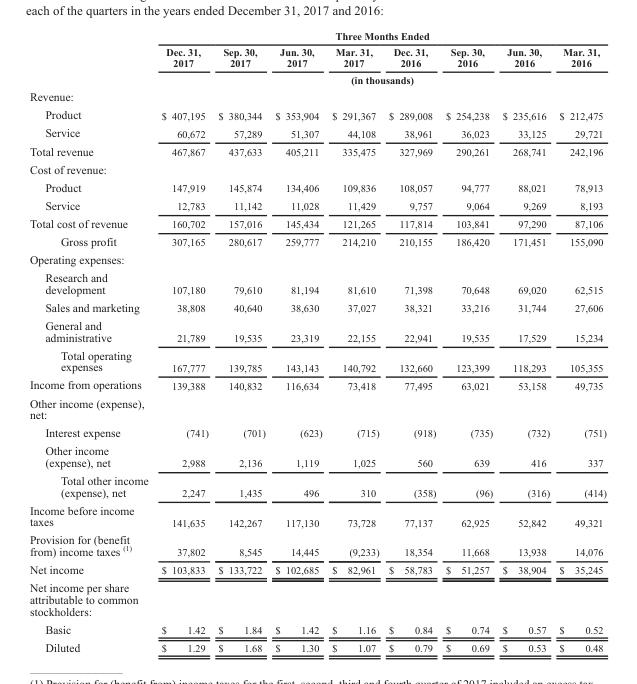table: (28, 29, 605, 653)
table column: (28, 29, 154, 653), (154, 29, 212, 653), (212, 29, 269, 653), (269, 29, 326, 653), (326, 29, 383, 653), (383, 29, 440, 653), (440, 29, 497, 653), (497, 29, 553, 653), (553, 29, 605, 653)
table column header: (28, 29, 605, 87)
table projected row header: (28, 578, 605, 619), (28, 393, 605, 423), (28, 87, 605, 105), (28, 159, 605, 177), (28, 250, 605, 268)
table row: (28, 578, 605, 619), (28, 345, 605, 375), (28, 393, 605, 423), (28, 441, 605, 471), (28, 500, 605, 530), (28, 530, 605, 560), (28, 268, 605, 297), (28, 316, 605, 345), (28, 471, 605, 500), (28, 43, 605, 70), (28, 213, 605, 232), (28, 297, 605, 316), (28, 87, 605, 105), (28, 105, 605, 123), (28, 123, 605, 141), (28, 141, 605, 159), (28, 159, 605, 177), (28, 177, 605, 195), (28, 195, 605, 213), (28, 232, 605, 250), (28, 250, 605, 268), (28, 375, 605, 393), (28, 423, 605, 441), (28, 560, 605, 578), (28, 619, 605, 637), (28, 70, 605, 87), (28, 637, 605, 653), (28, 29, 605, 43)
table spanning cell: (154, 70, 605, 87), (154, 29, 605, 43)
